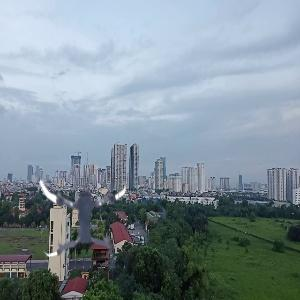drone: (34, 159, 136, 261)
